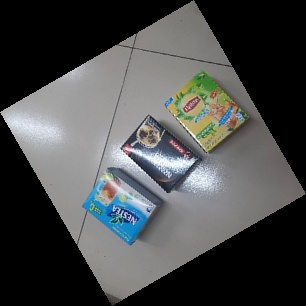CF Viet: (120, 115, 203, 193)
LipTon: (164, 70, 250, 152)
Nestea: (80, 167, 162, 243)
